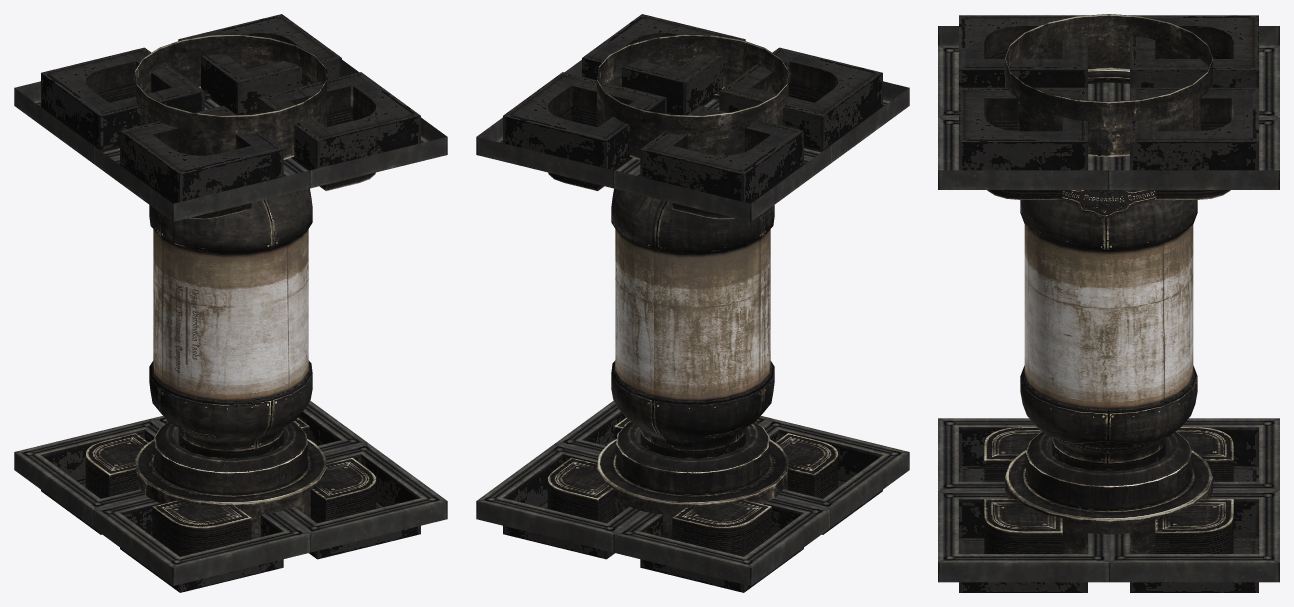
Rendered from tesla_props_giant_fuse_02.dae.
The picture shows the model from 3 angles, left to right: view 1: azimuth 30°, elevation 25°; view 2: azimuth 150°, elevation 25°; view 3: azimuth 270°, elevation 25°; orthographic projection. The views are drawn at different scales.
Parts seen in each view (by area): view 1: fuse_polySurface107; view 2: fuse_polySurface107; view 3: fuse_polySurface107.
Boxes of the visible parts, x1,y1,x2,y2 form: fuse_polySurface107: [14, 14, 447, 592]; fuse_polySurface107: [476, 14, 909, 592]; fuse_polySurface107: [938, 14, 1279, 592].
Size of the model in its own units: 4 by 6.11 by 4.
1 material, 1 textured.
